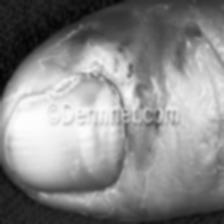Toxin: (75, 24, 147, 102)
